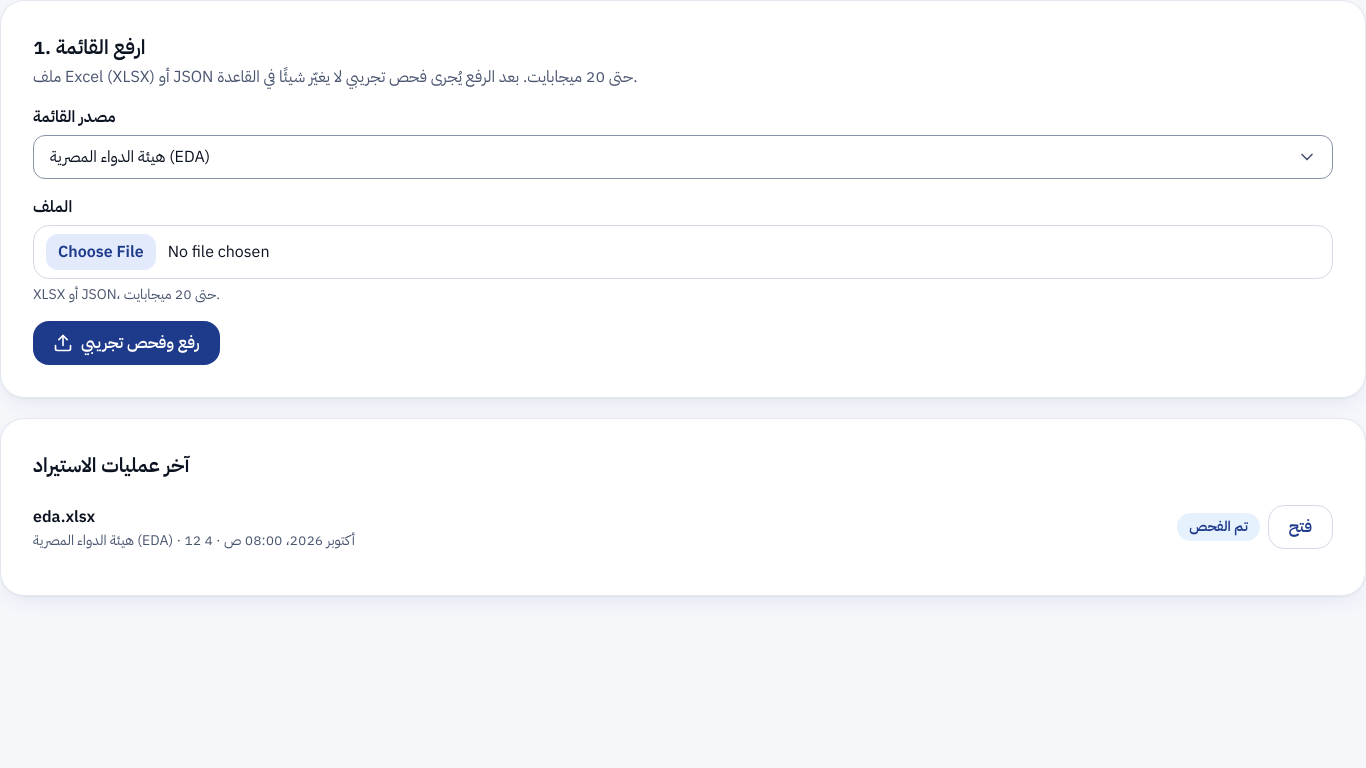
Scenario: DrugImportsView › asks for a file before uploading
Click the button "رفع وفحص تجريبي": coordinates (126, 343) top-left (33, 321), bottom-right (220, 365)
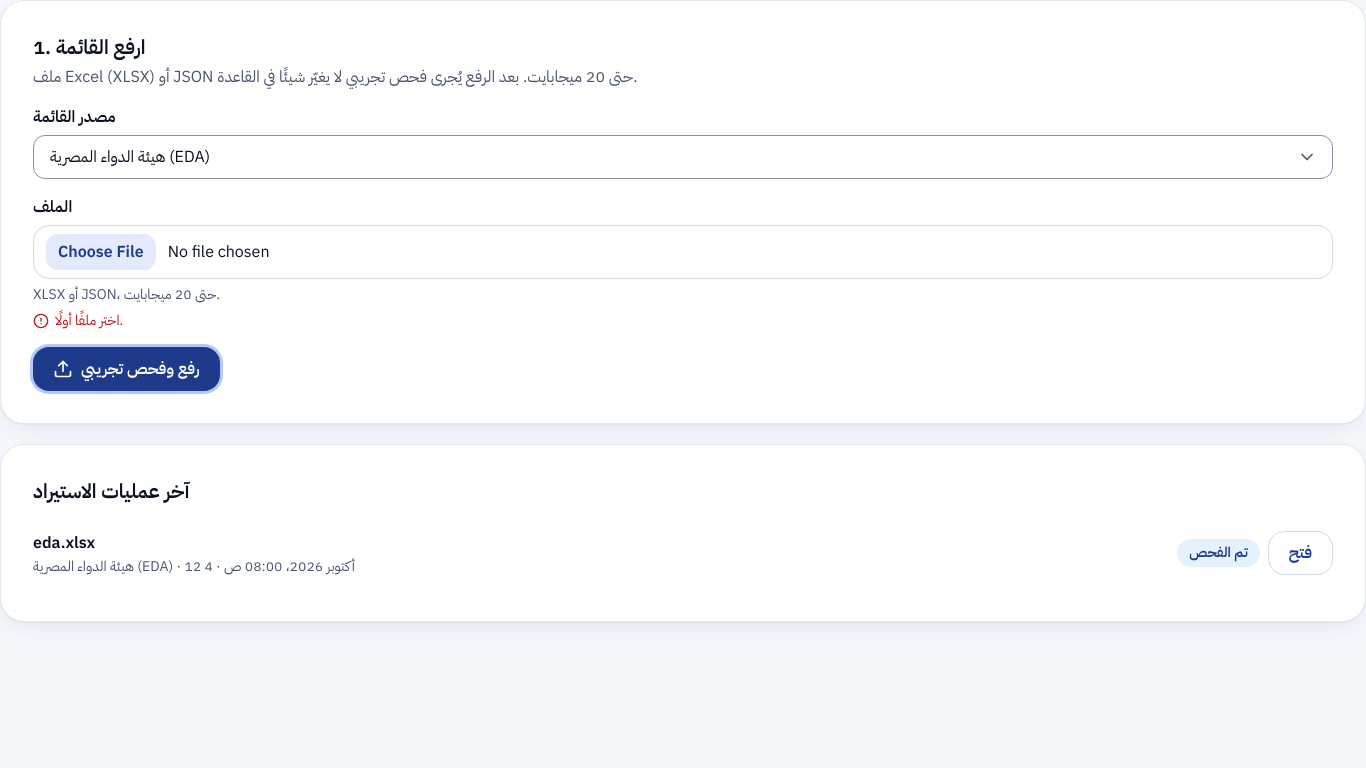
Now the text "اختر ملفًا أولًا." is shown, box top-left (55, 311), bottom-right (123, 331)
